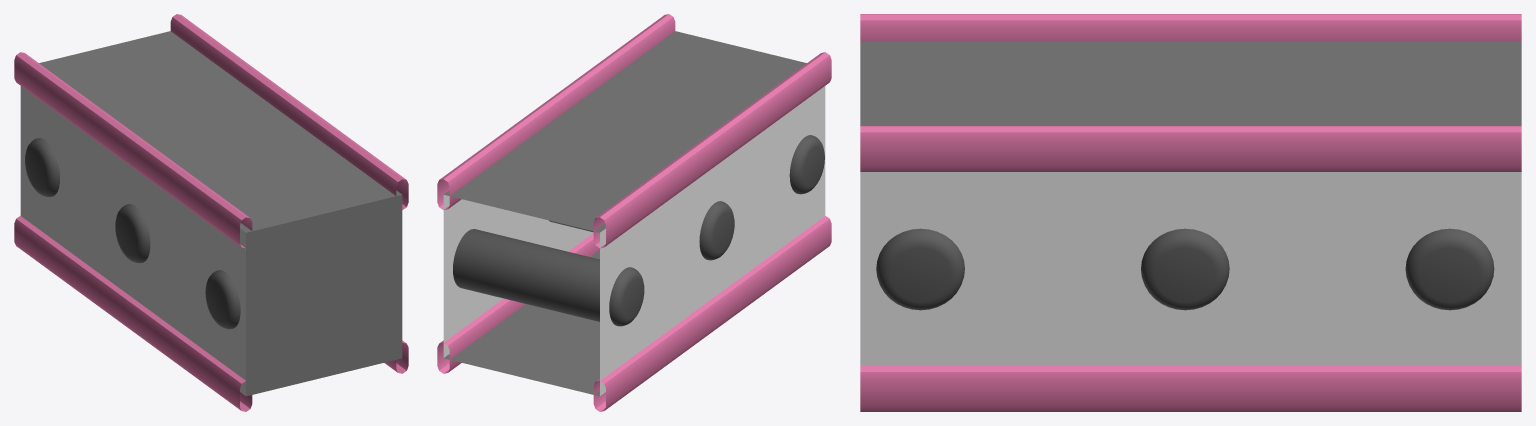
File: parca9.fbx
3 renders of one model, left to right at view 1: azimuth 30°, elevation 25°; view 2: azimuth 150°, elevation 25°; view 3: azimuth 270°, elevation 25°, orthographic. The views are drawn at different scales.
Parts seen in each view (by area): view 1: 9; view 2: 9; view 3: 9.
Boxes of the visible parts, bbox=[...] form: 9: bbox=[14, 14, 408, 411]; 9: bbox=[437, 14, 831, 411]; 9: bbox=[860, 14, 1521, 411].
Bounding box in the file's own units: 2.22 × 2.38 × 5.
